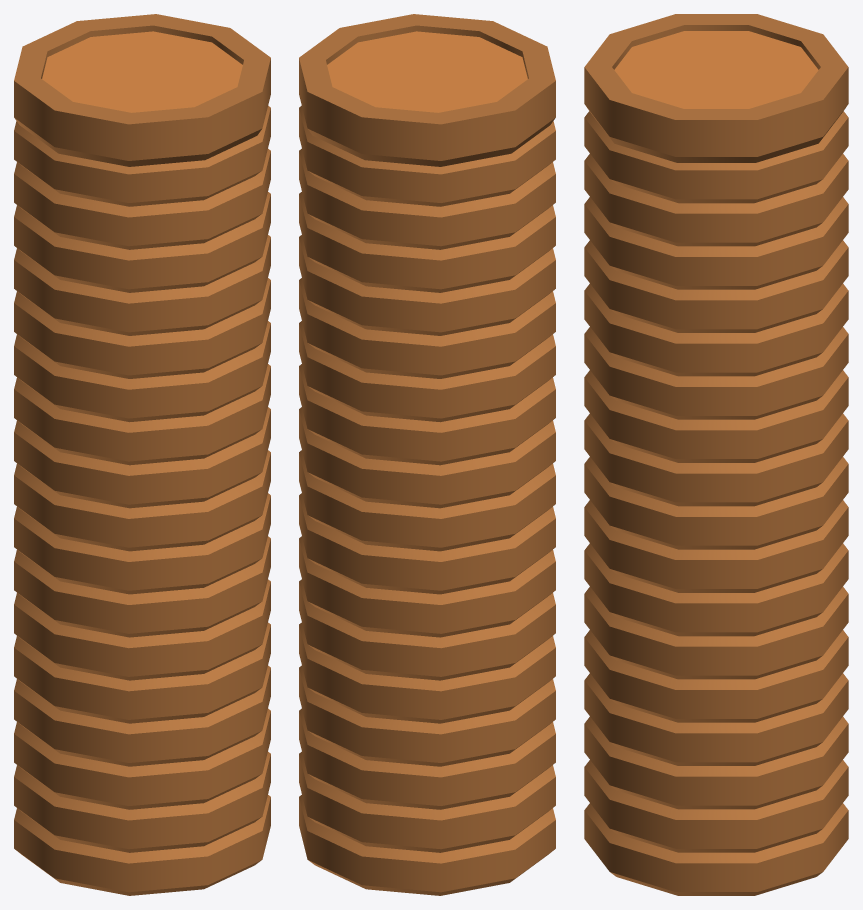
File: Coin_Tower_08.fbx
3 views of the same model, side by side, from view 1: azimuth 30°, elevation 25°; view 2: azimuth 150°, elevation 25°; view 3: azimuth 270°, elevation 25° (orthographic).
Parts seen in each view (by area): view 1: Coin_Tower_08; view 2: Coin_Tower_08; view 3: Coin_Tower_08.
Part boxes in pixels (left/top/right/bottom): Coin_Tower_08: left=14, top=14, right=270, bottom=895; Coin_Tower_08: left=299, top=14, right=555, bottom=895; Coin_Tower_08: left=584, top=14, right=848, bottom=895.
Bounding box in the file's own units: 0.0413 × 0.1415 × 0.0435.
